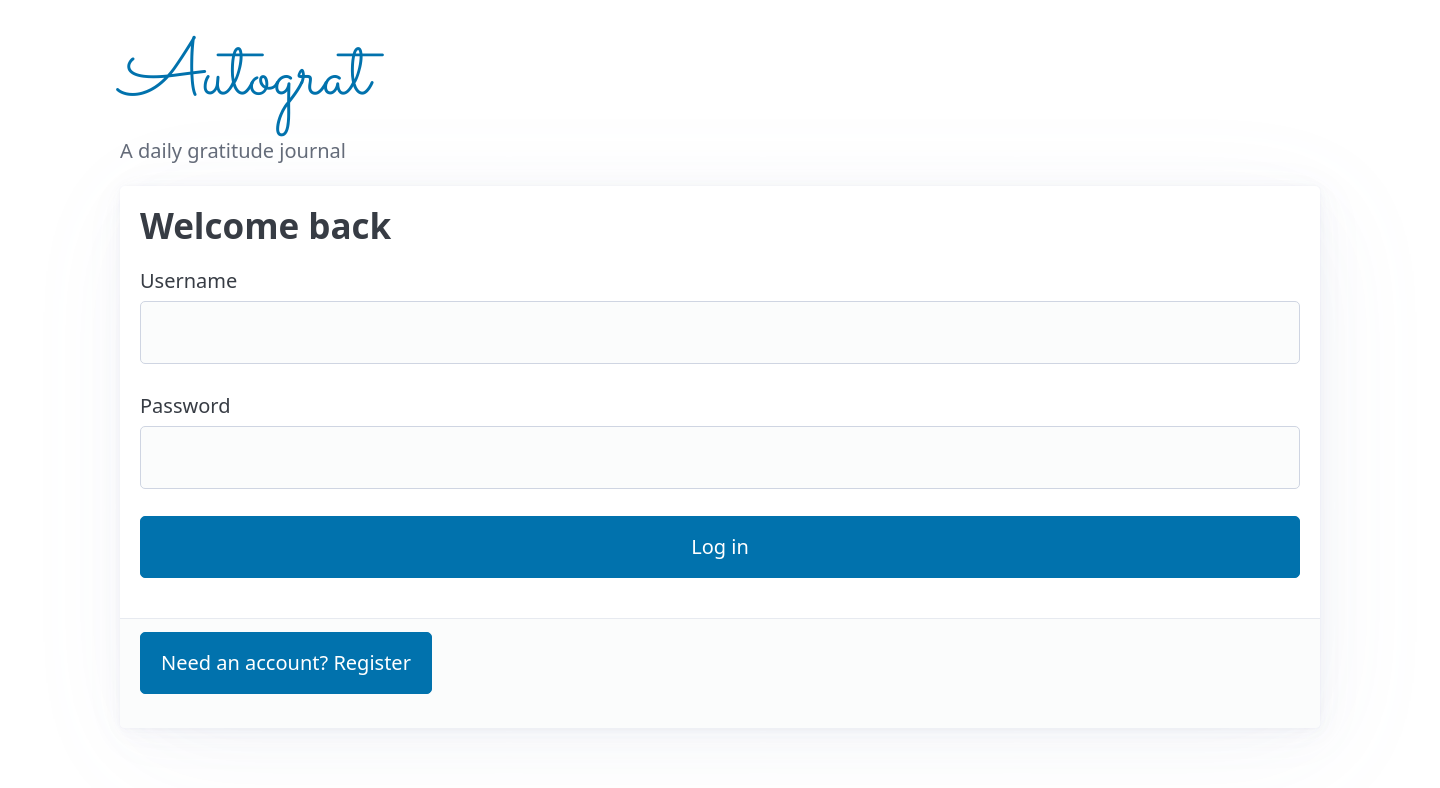
it: LoginPage › asks for password confirmation only when registering
Expected: the field labelled "Confirm password" is not shown
What coordinates should you click on to do the following:
click the button "Need an account? Register"
I would click on:
 (286, 663)
Its box is [140,632,432,694].
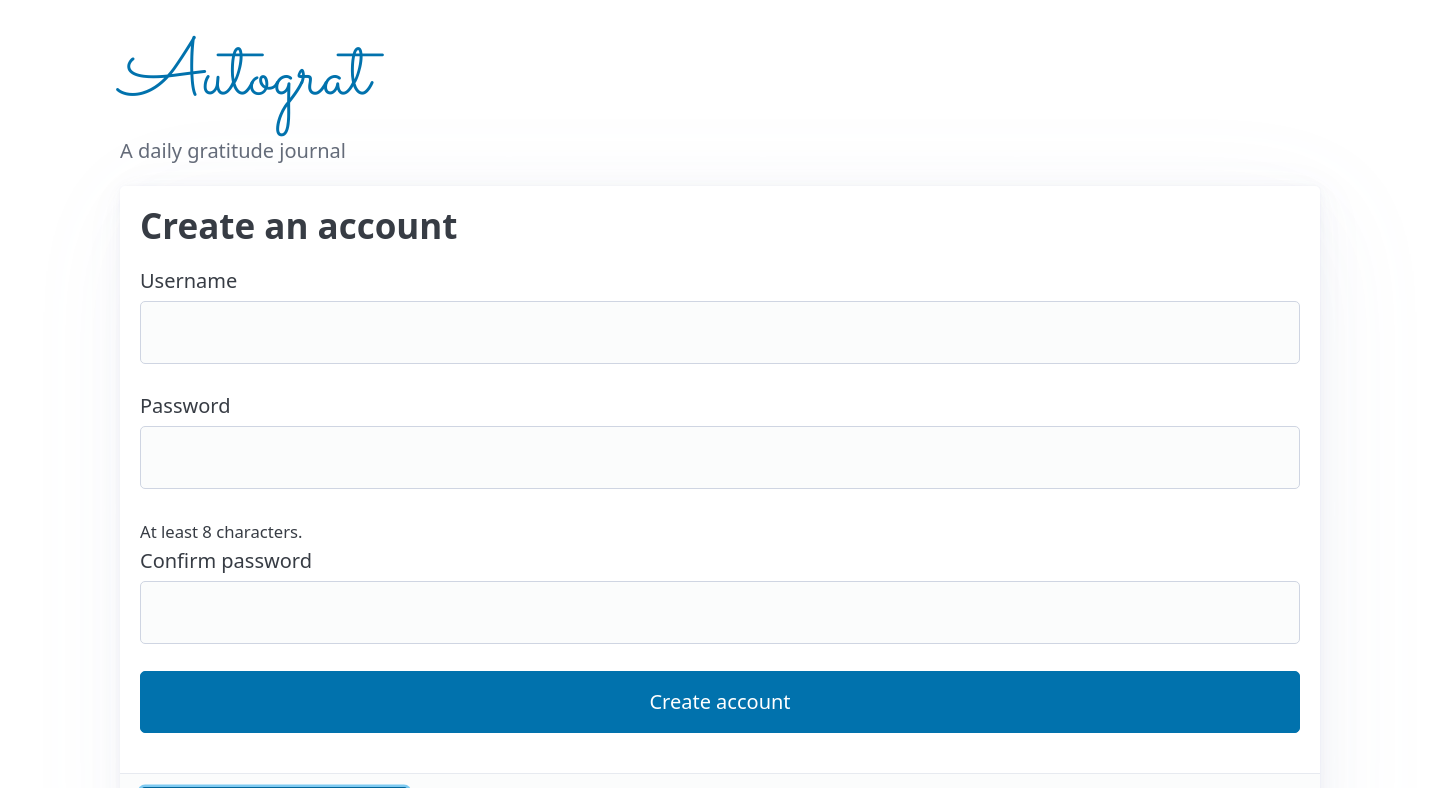
Now the password field labelled "Confirm password" is shown, box [140,581,1300,644]
